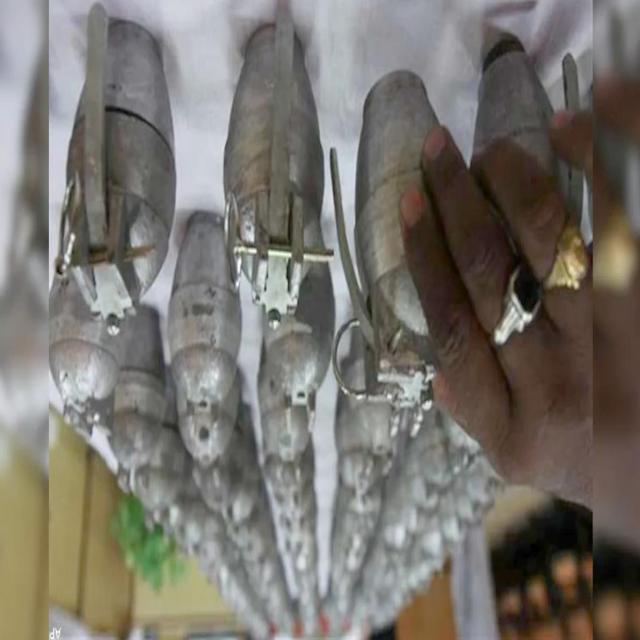grenade: (329, 69, 448, 438), (59, 5, 179, 334), (222, 17, 329, 335), (471, 46, 586, 250), (49, 232, 130, 444), (170, 210, 244, 408), (265, 262, 338, 435), (108, 310, 168, 496), (259, 334, 314, 469), (177, 365, 242, 469), (194, 405, 245, 514)
